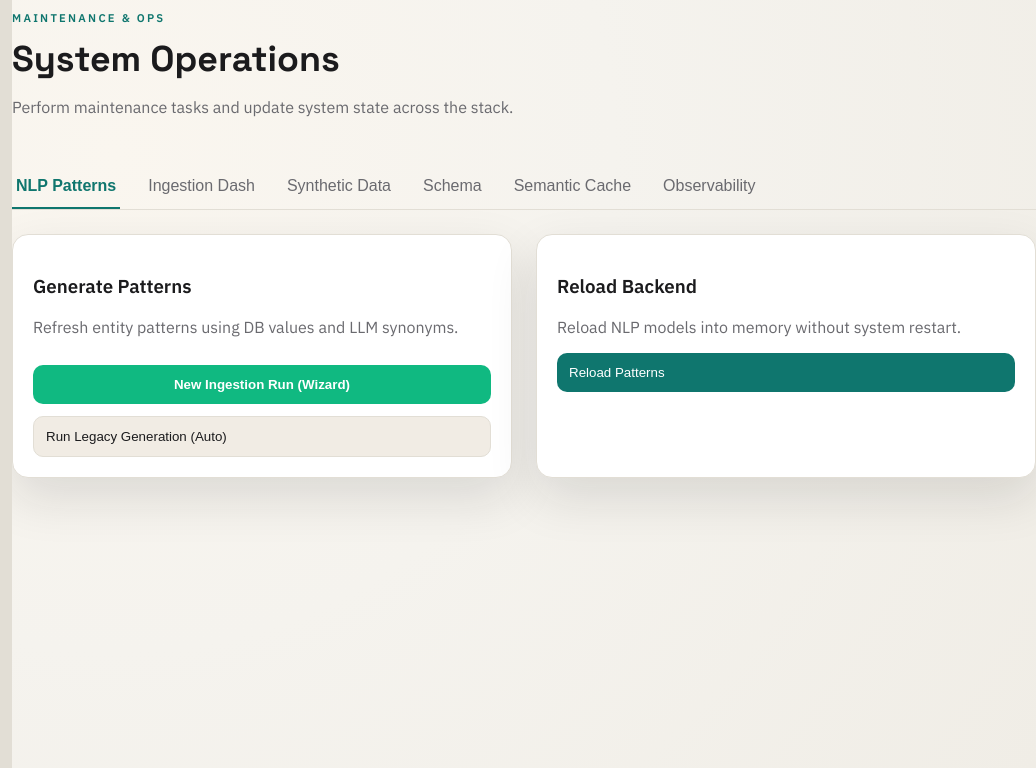
Test: SystemOperations › updates the tab query param when a tab is clicked
Step 1. Click the button "Schema" → (452,187), box [419,165,486,209]
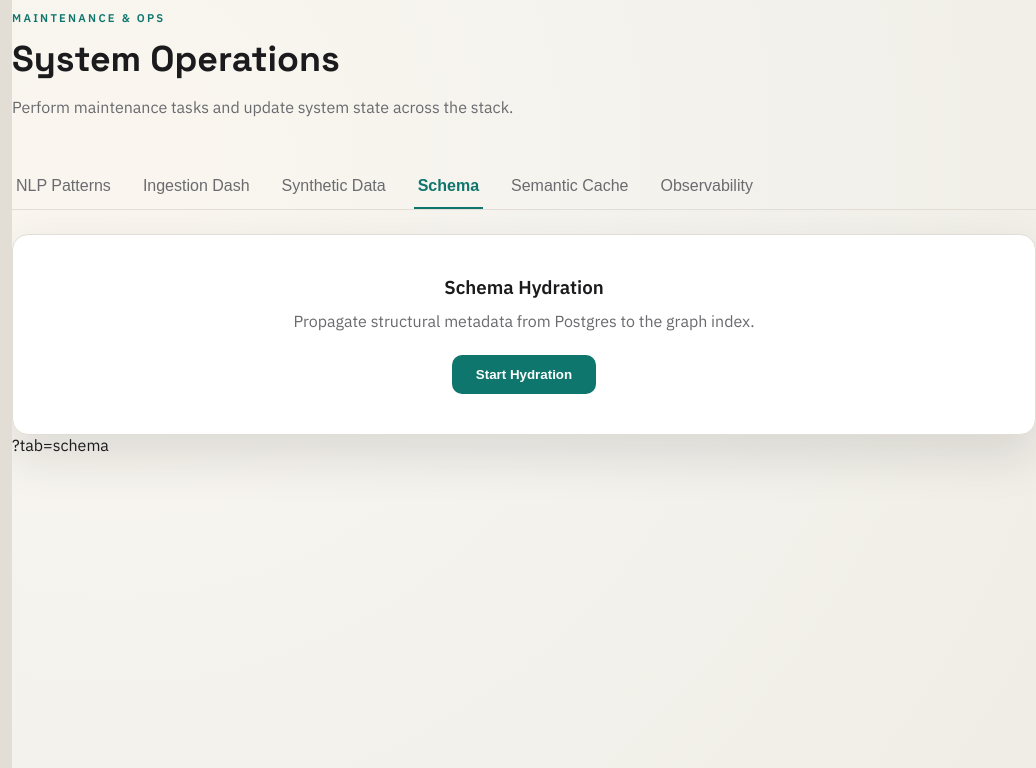
expect the text with test id "location-search" shows "tab=schema": met, box [12,435,109,455]
expect the heading "Schema Hydration" is shown: met, box [444,275,604,299]
